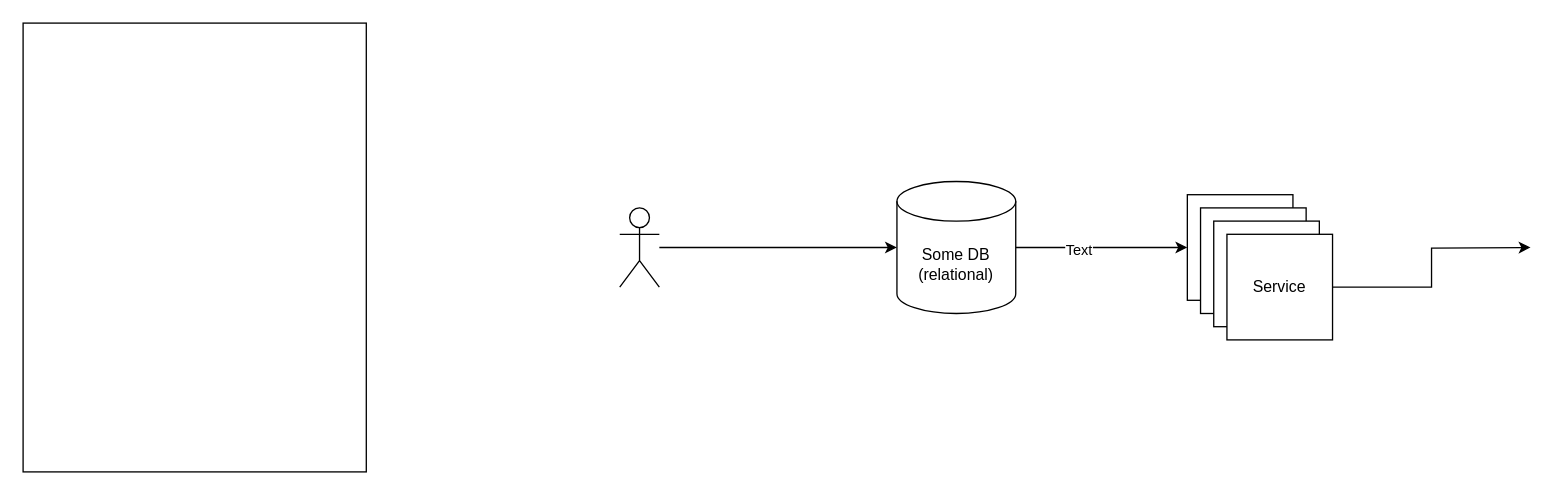
This 1564x495 diagram has some shape labels left out. Here are the shapes that lost their labels. From the top down, the centre of each, then its label:
(194,247): 1M users
(638,247): Actor
